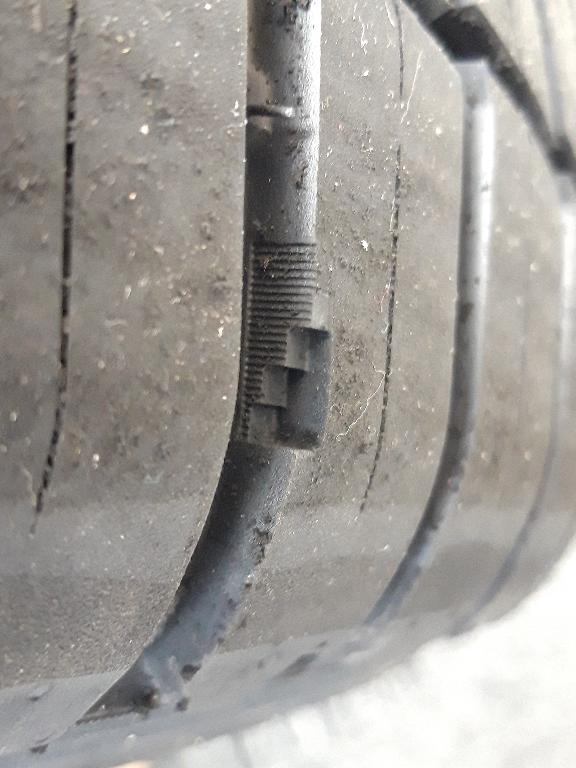temoin:75: (227, 277, 348, 469)
